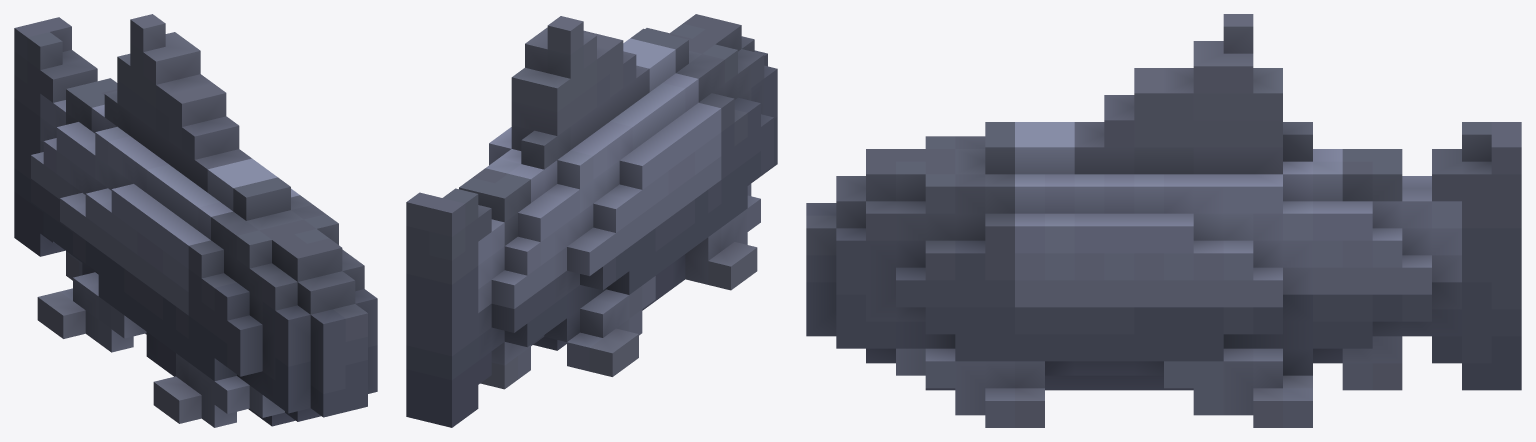
Rendered from fish.glb.
The picture shows the model from 3 angles, left to right: view 1: azimuth 30°, elevation 25°; view 2: azimuth 150°, elevation 25°; view 3: azimuth 270°, elevation 25°; orthographic projection. The views are drawn at different scales.
Visible parts, largest first — view 1: voxels; view 2: voxels; view 3: voxels.
Boxes of the visible parts, x1,y1,x2,y2 form: voxels: (14, 14, 377, 427); voxels: (406, 14, 777, 427); voxels: (806, 14, 1521, 427).
Size of the model in its own units: 0.2148 by 0.3491 by 0.6444.
